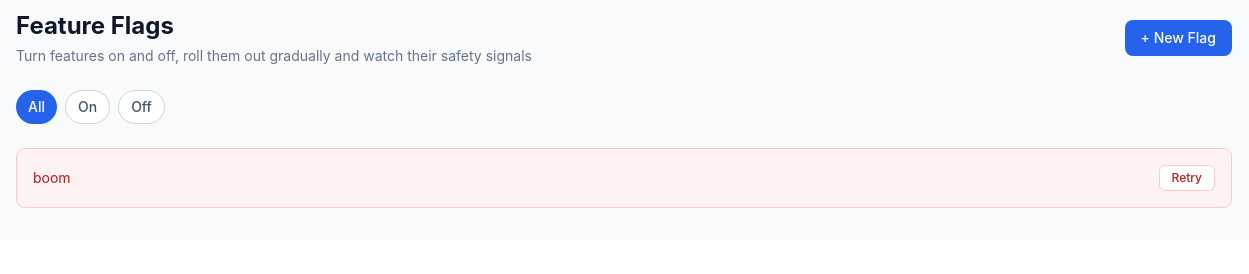
Test case: FeatureFlagsPage › renders the error state with a working retry
Expected: the message with test id "flags-error" shows "boom", [33,169,71,186]
Click the button with test id "flags-retry": (1187, 178) [1158,165,1215,191]
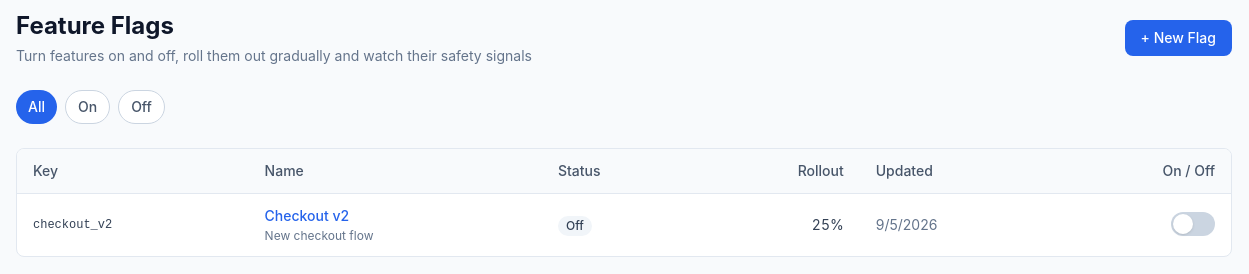
Expected: the element with test id "flags-table" is shown, [16,148,1232,257]
